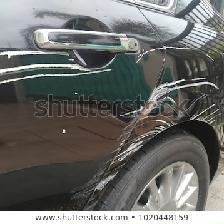scrach: (118, 90, 189, 153)
